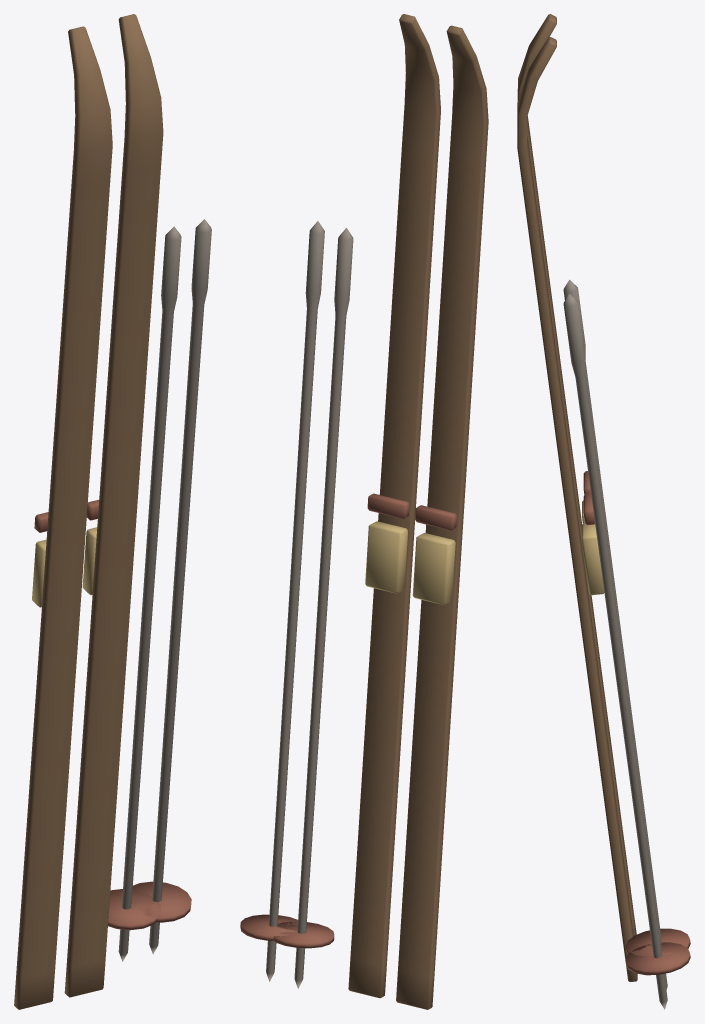
File: skis.glb
3 views of the same model, side by side, from view 1: azimuth 30°, elevation 25°; view 2: azimuth 150°, elevation 25°; view 3: azimuth 270°, elevation 25° (orthographic). The views are drawn at different scales.
Visible parts, largest first — view 1: skis; view 2: skis; view 3: skis.
Boxes of the visible parts, x1,y1,x2,y2 form: skis: (14, 14, 211, 1009); skis: (240, 14, 488, 1009); skis: (517, 14, 690, 1009).
Bounding box in the file's own units: 0.37 × 1.9 × 0.3199.
